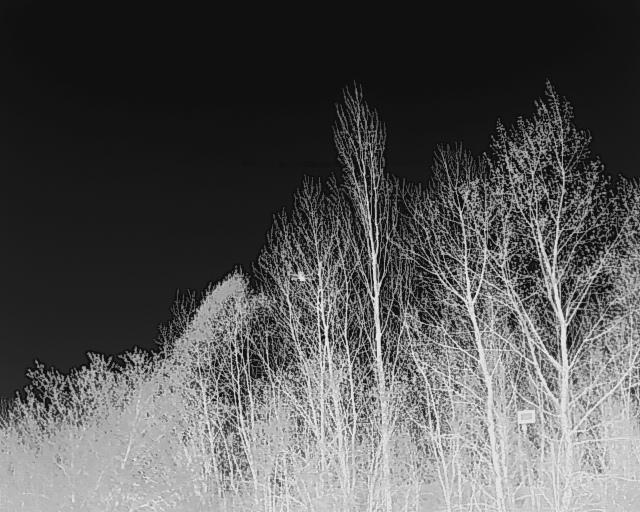drone: (282, 267, 318, 287)
